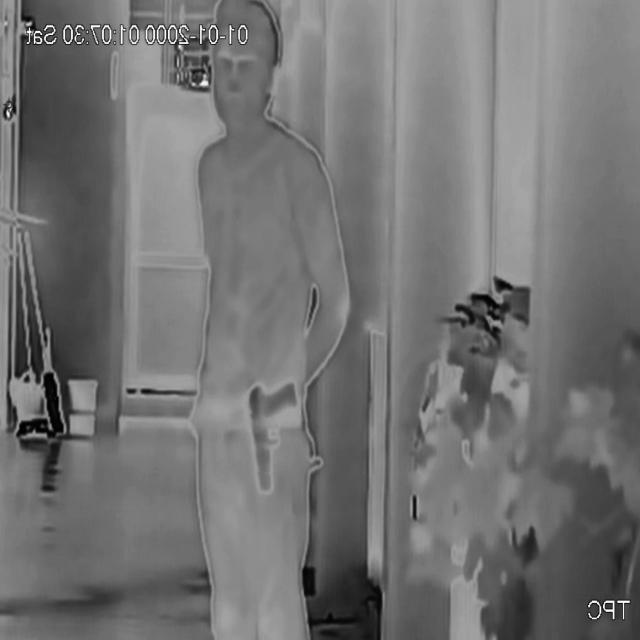Weapon: (230, 372, 300, 514)
